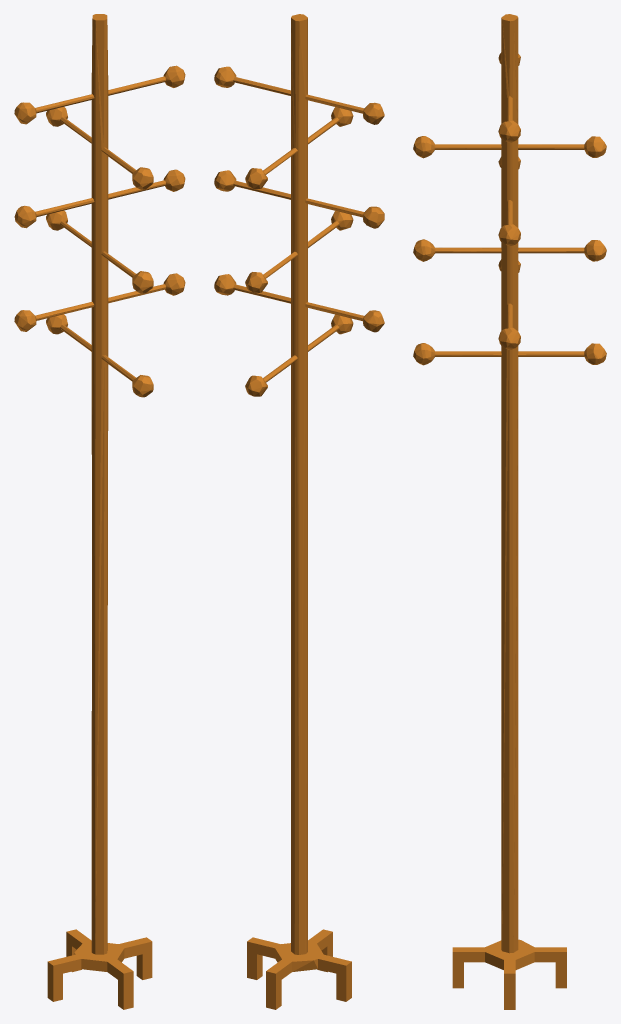
3 renders of one model, left to right at view 1: azimuth 30°, elevation 25°; view 2: azimuth 150°, elevation 25°; view 3: azimuth 270°, elevation 25°, orthographic.
Visible parts, largest first — view 1: Model; view 2: Model; view 3: Model.
Boxes of the visible parts, x1,y1,x2,y2 form: Model: (14,14,185,1009); Model: (214,14,384,1009); Model: (413,14,606,1009).
Bounding box in the file's own units: 0.3392 × 0.3392 × 1.87.
